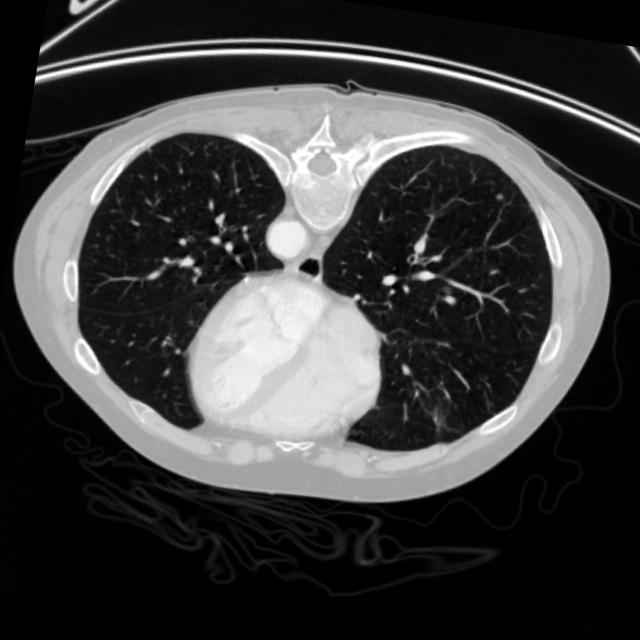nodule: (490, 187, 511, 208)
